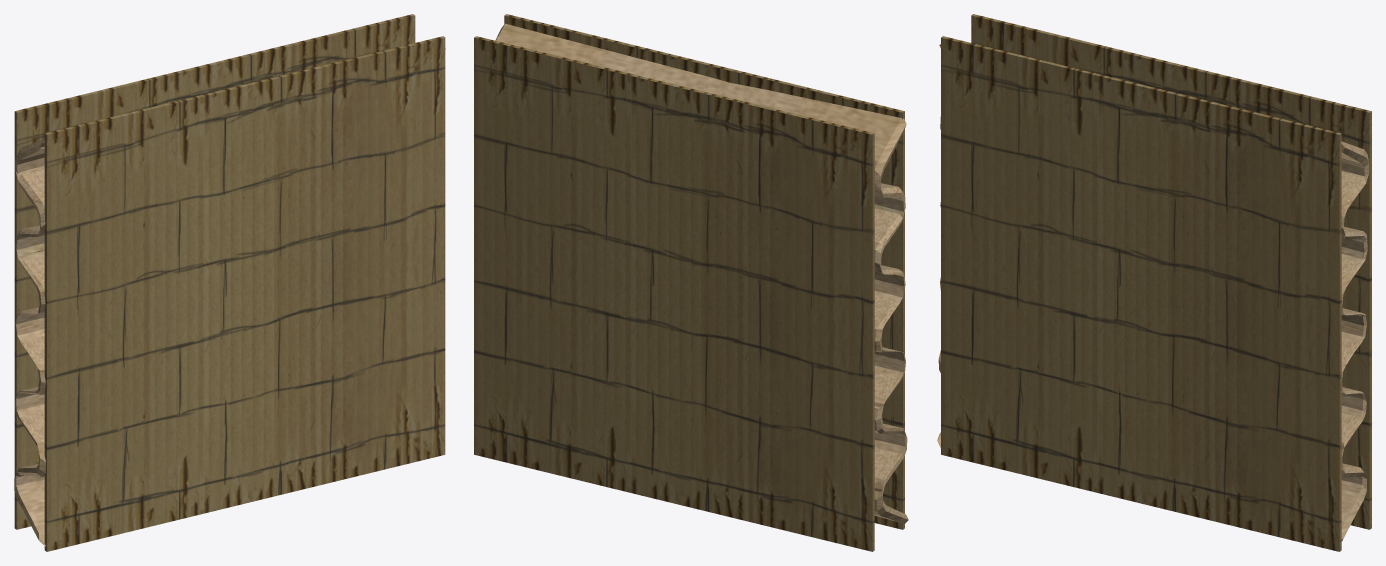
Rendered from wall_02-2.fbx.
3 renders of one model, left to right at view 1: azimuth 30°, elevation 25°; view 2: azimuth 150°, elevation 25°; view 3: azimuth 330°, elevation 25°, orthographic.
Parts seen in each view (by area): view 1: wall, raster; view 2: wall, raster; view 3: wall, raster.
Boxes of the visible parts, bbox=[...] form: wall: bbox=[14, 14, 445, 551]; raster: bbox=[14, 48, 445, 546]; wall: bbox=[474, 14, 904, 551]; raster: bbox=[495, 23, 908, 523]; wall: bbox=[941, 14, 1371, 551]; raster: bbox=[937, 44, 1369, 541].
Bounding box in the file's own units: 272 × 266 × 37.41.
2 materials, 2 textured.
